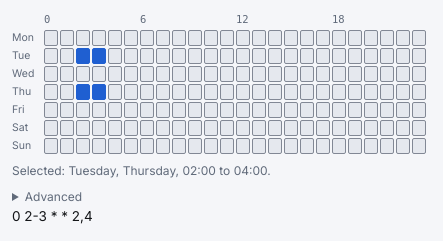
Test: WeekPainter › unpainting shrinks the window: an hour on a one-day window, a day on a multi-day one
Click the cell named "Thursday 02:00".
click(83, 92)  # box top-left (76, 84), bottom-right (90, 100)
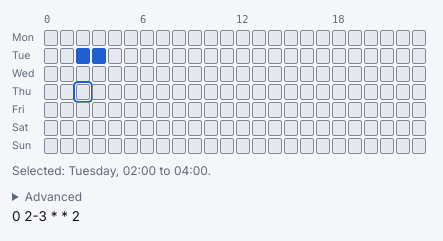
Expected: the text with test id "cron" reads "0 2-3 * * 2", top-left (12, 208), bottom-right (80, 224)
Click the cell named "Tuesday 03:00".
click(99, 56)  # box top-left (92, 48), bottom-right (106, 64)
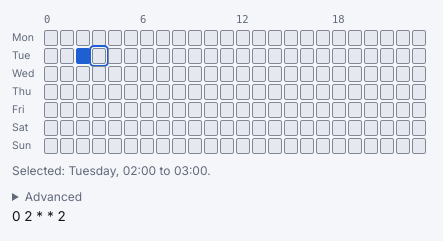
Expected: the text with test id "cron" reads "0 2 * * 2", top-left (12, 208), bottom-right (66, 224)
